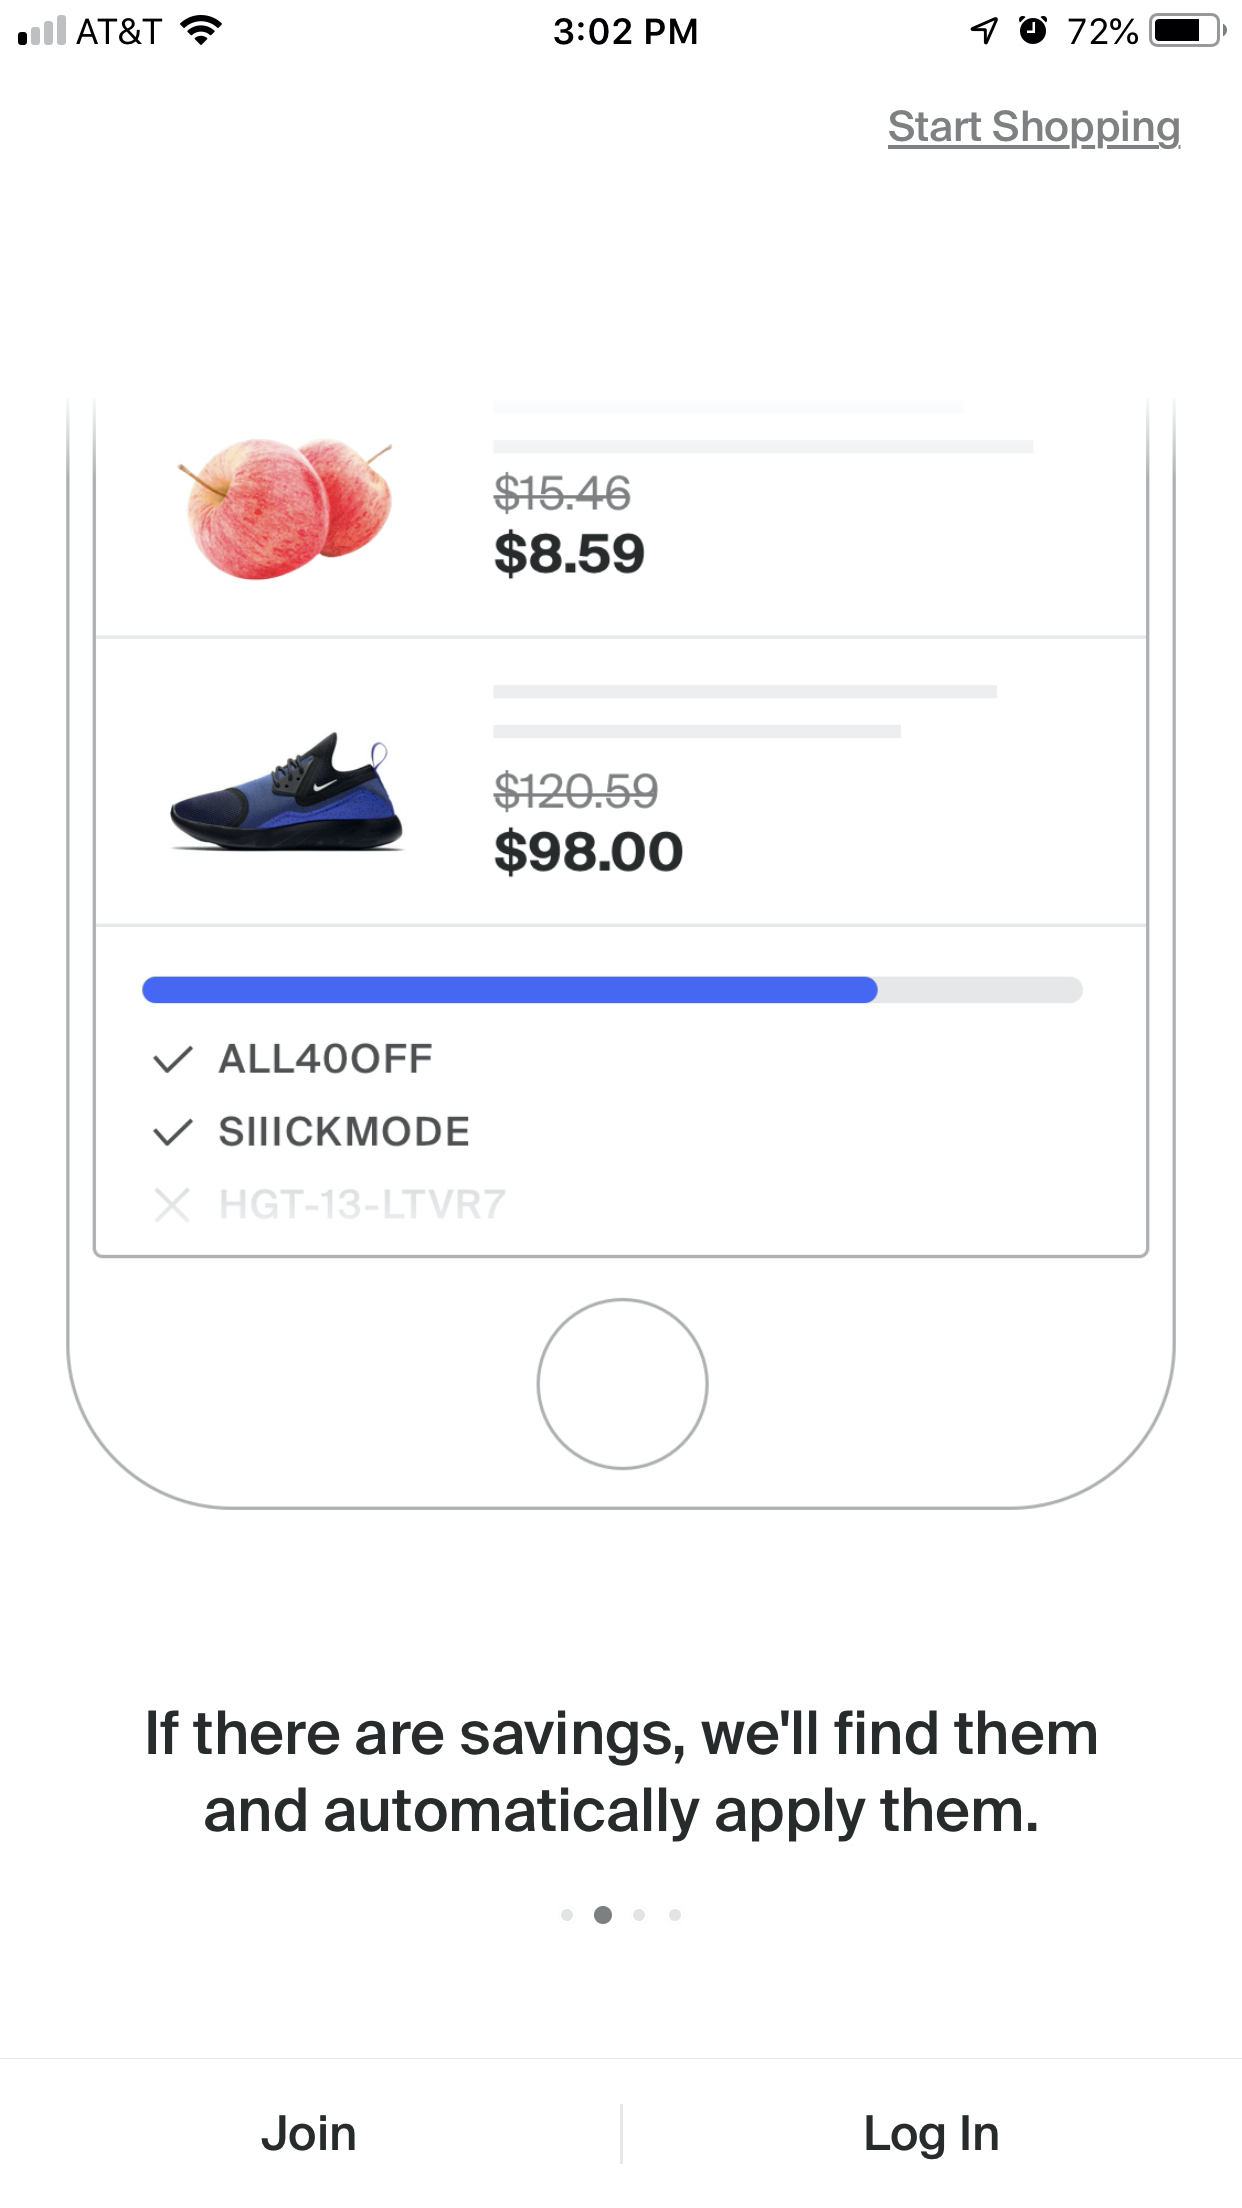Image: (67, 397, 1178, 1512)
PageIndicator: (558, 1905, 685, 1926)
Text: (149, 1709, 1098, 1844), (889, 111, 1181, 152)
TextButton: (622, 2058, 1242, 2208), (2, 2058, 622, 2208)
UpperTaskBar: (2, 2, 1242, 49)
